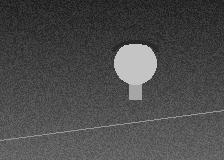no_helmet: (114, 40, 156, 89)
